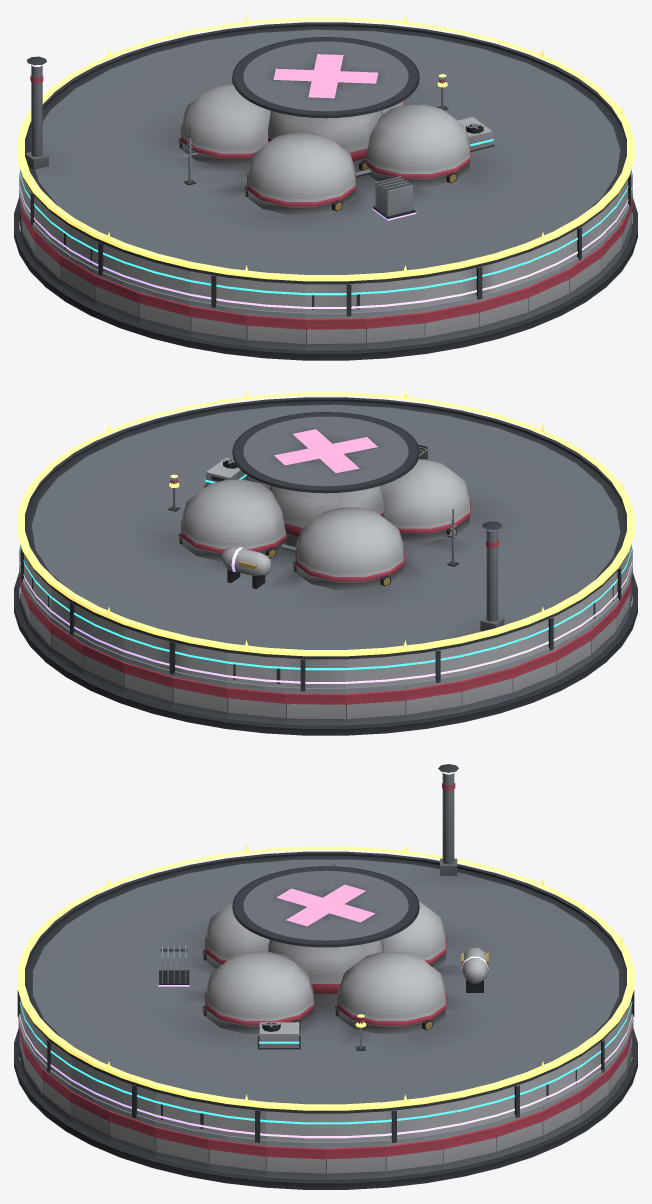
Rendered from bio_lab_xl_far.glb.
The picture shows the model from 3 angles, top to bottom: view 1: azimuth 30°, elevation 25°; view 2: azimuth 150°, elevation 25°; view 3: azimuth 270°, elevation 25°; orthographic projection.
Parts seen in each view (by area): view 1: Roof, Base, L5, L2, L4, L3; view 2: Roof, Base, L5, L2, L4, L3; view 3: Roof, Base, L5, L2, L4, L3.
Boxes of the visible parts, box(x1,y1,x2,y2) form: Roof: box(20, 22, 631, 316); Base: box(14, 197, 637, 360); L5: box(17, 15, 634, 281); L2: box(19, 128, 632, 317); L4: box(19, 75, 632, 308); L3: box(19, 117, 632, 295); Roof: box(20, 397, 631, 691); Base: box(14, 572, 637, 735); L5: box(17, 390, 634, 656); L2: box(19, 509, 632, 692); L4: box(19, 443, 632, 683); L3: box(19, 458, 632, 670); Roof: box(17, 764, 634, 1142); Base: box(14, 1016, 637, 1189); L5: box(17, 844, 634, 1110); L2: box(19, 863, 632, 1146); L4: box(19, 945, 632, 1138); L3: box(19, 1001, 632, 1124).
Bounding box in the file's own units: 21.35 × 6.9 × 21.35.
